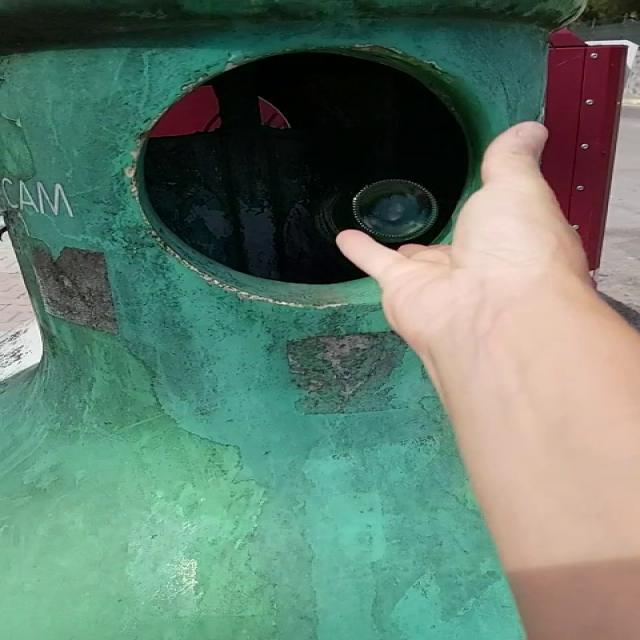glass: (317, 179, 439, 243)
